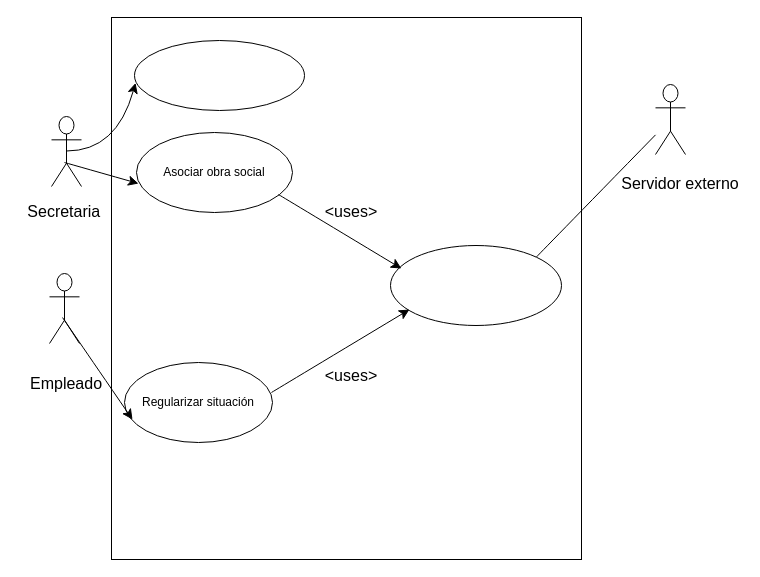
This 760x577 diagram has some shape labels left out. The shapes that lost their labels are listed below. From the top down, each one's centre as x and y in pixels, then its label:
At pixel 219 75: "Contratar empleado".
At pixel 476 285: "Verificar morosidad".
